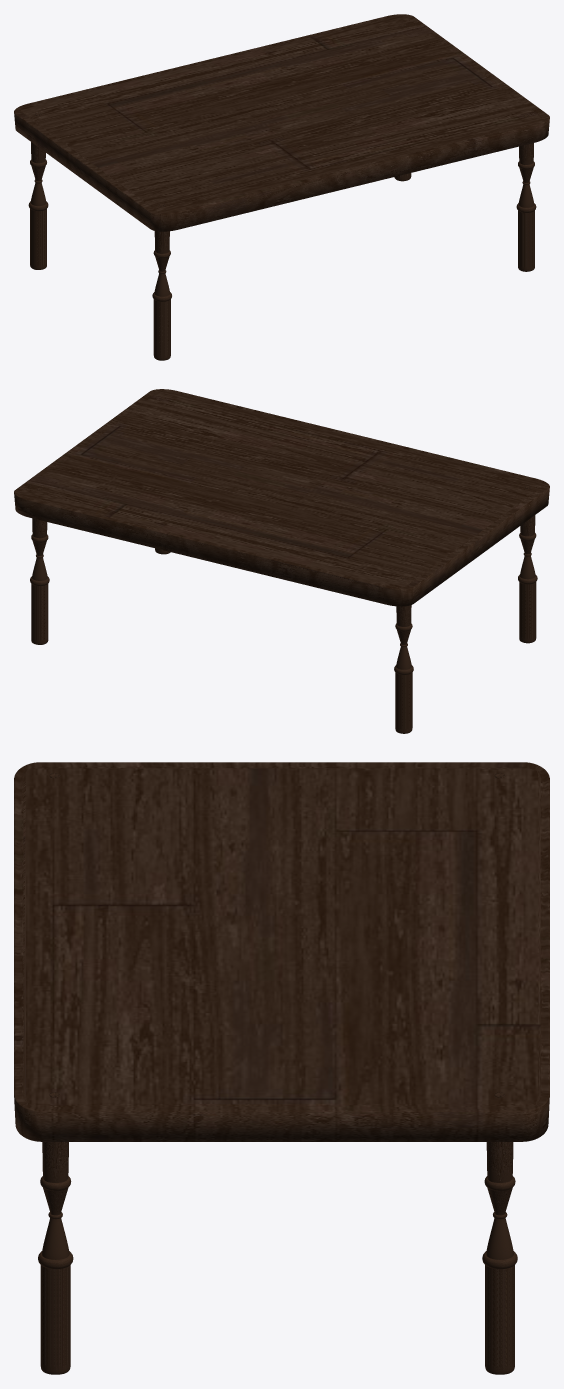
Rendered from desk_terminal.glb.
3 renders of one model, top to bottom at view 1: azimuth 30°, elevation 25°; view 2: azimuth 150°, elevation 25°; view 3: azimuth 270°, elevation 25°, orthographic. The views are drawn at different scales.
Parts seen in each view (by area): view 1: Cubo_6, Cube.003_15, Cube.001_7, Cube.002_11; view 2: Cubo_6, Cube.002_11, Cube_0, Cube.003_15; view 3: Cubo_6, Cube.001_7, Cube_0.
Part boxes in pixels (bbox=[...]): Cubo_6: bbox=[14, 14, 549, 231]; Cube.003_15: bbox=[153, 231, 170, 360]; Cube.001_7: bbox=[518, 143, 534, 271]; Cube.002_11: bbox=[30, 142, 46, 269]; Cubo_6: bbox=[14, 389, 549, 606]; Cube.002_11: bbox=[395, 605, 412, 733]; Cube_0: bbox=[31, 518, 48, 644]; Cube.003_15: bbox=[519, 515, 536, 643]; Cubo_6: bbox=[14, 762, 549, 1141]; Cube.001_7: bbox=[40, 1142, 70, 1374]; Cube_0: bbox=[485, 1142, 514, 1374].
Size of the model in its own units: 42.08 by 15.43 by 27.27.
Materials: 3 (3 with a texture image).
